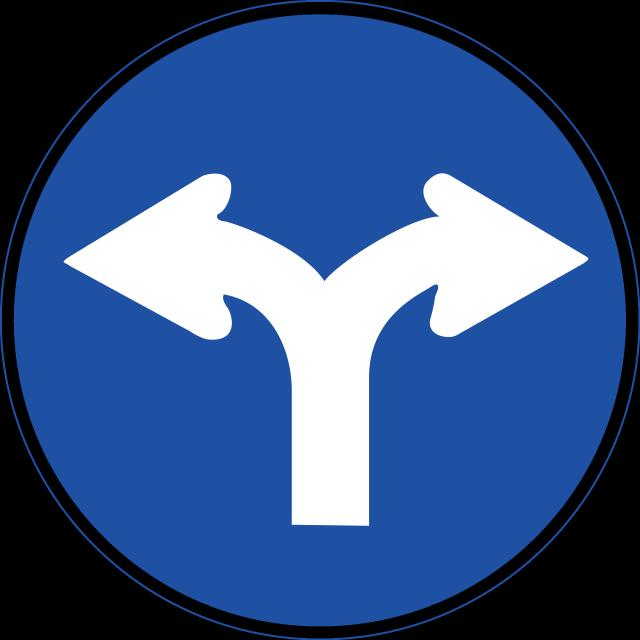Indication_Left_or_right_turn: (0, 0, 640, 633)
